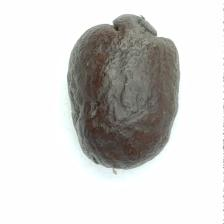NG: (84, 14, 174, 51)
